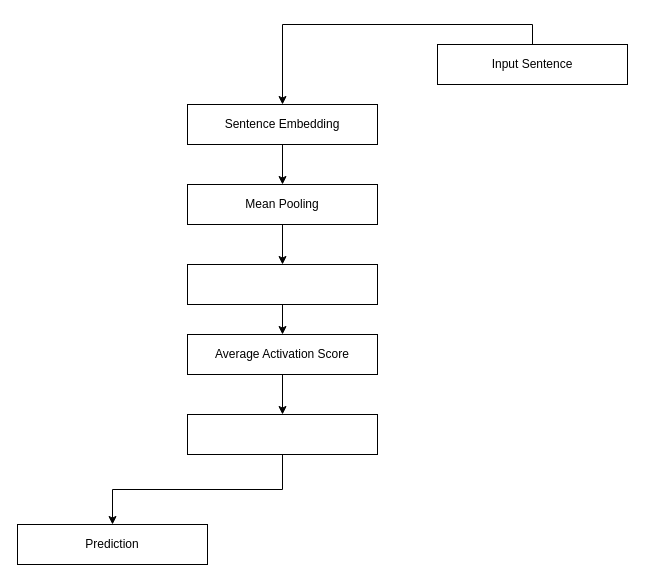
Some shapes in this 645 by 582 pixel diagram are drawn without their labels. Each missing label, with the centre of its shape:
Sigmoid Activation: the point at 282,284
Threshold Classification: the point at 282,434
